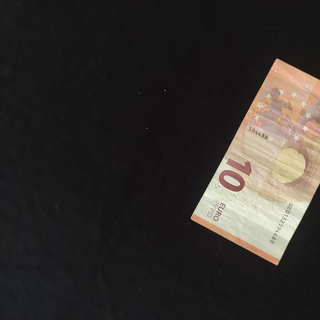10EUROBack: (189, 57, 320, 265)
